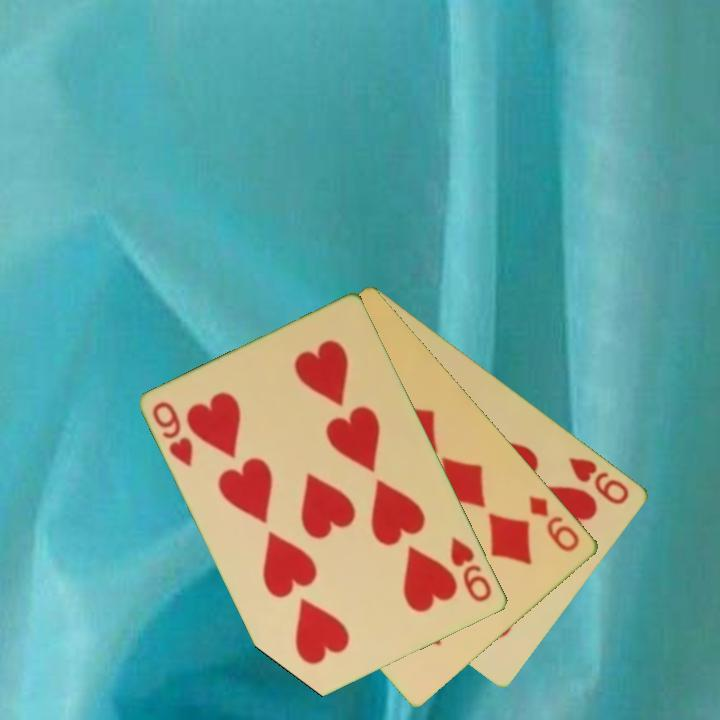9d: (526, 492, 583, 555)
9h: (565, 453, 633, 508), (447, 534, 496, 606), (149, 398, 197, 470)
